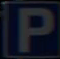Parking: (10, 4, 49, 50)
